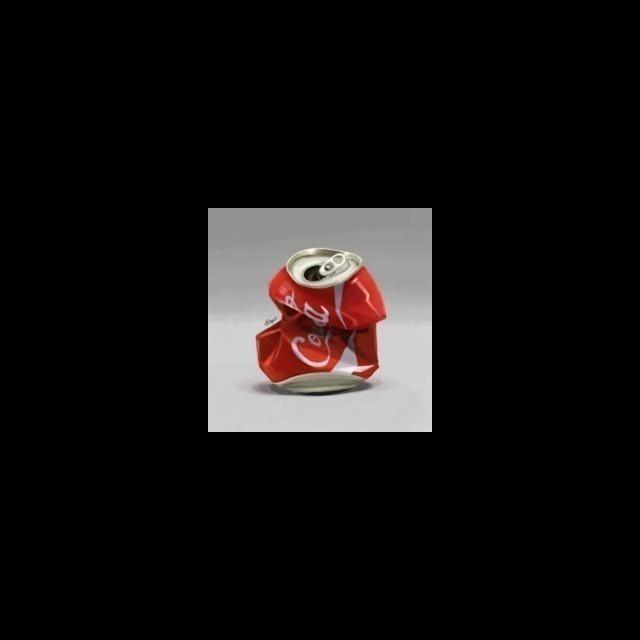metal: (254, 244, 391, 395)
